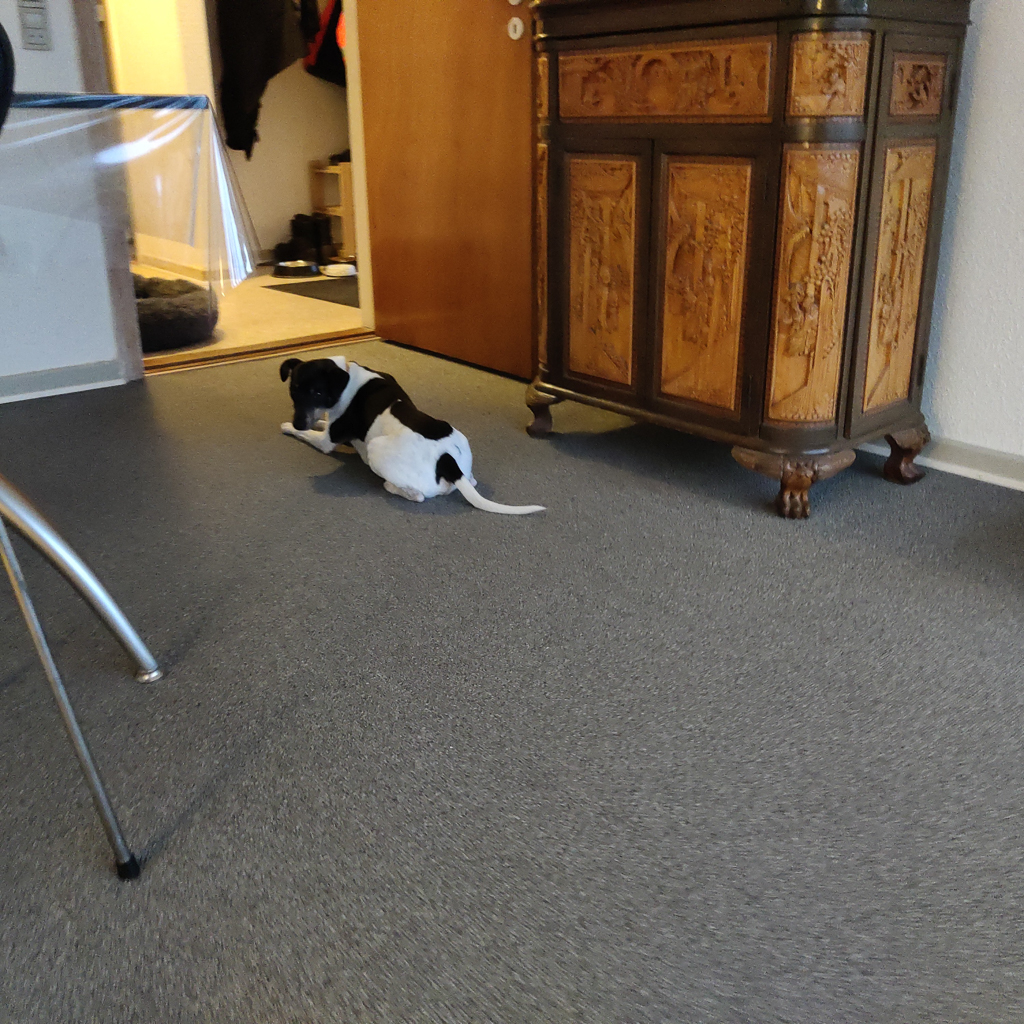Dog: (257, 351, 560, 524)
